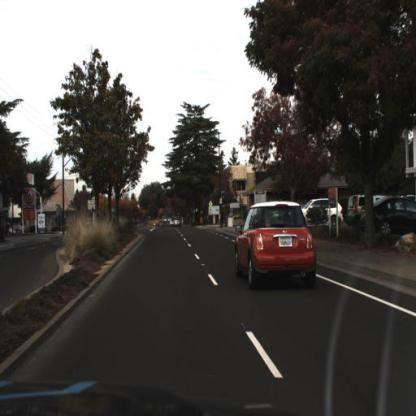car: (235, 200, 317, 288), (302, 199, 345, 230), (174, 218, 183, 228)
